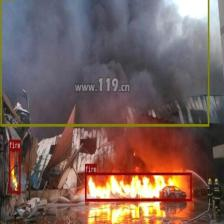fire: (85, 172, 192, 201), (9, 148, 20, 193)
smoke: (0, 0, 209, 126)
